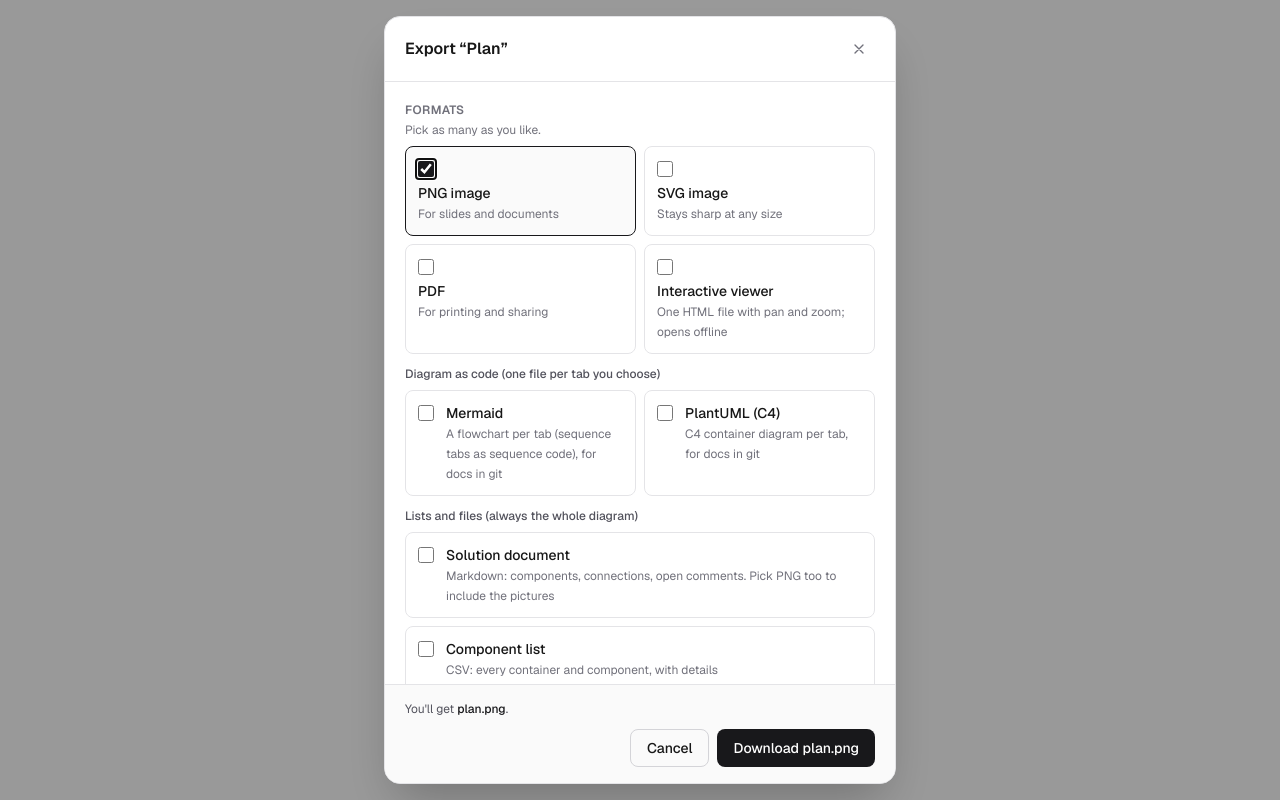
Test: ExportDialog › won't download with no format chosen
Click the checkbox labelled "PNG image For slides and documents" at (426, 169), box [418, 161, 434, 177]
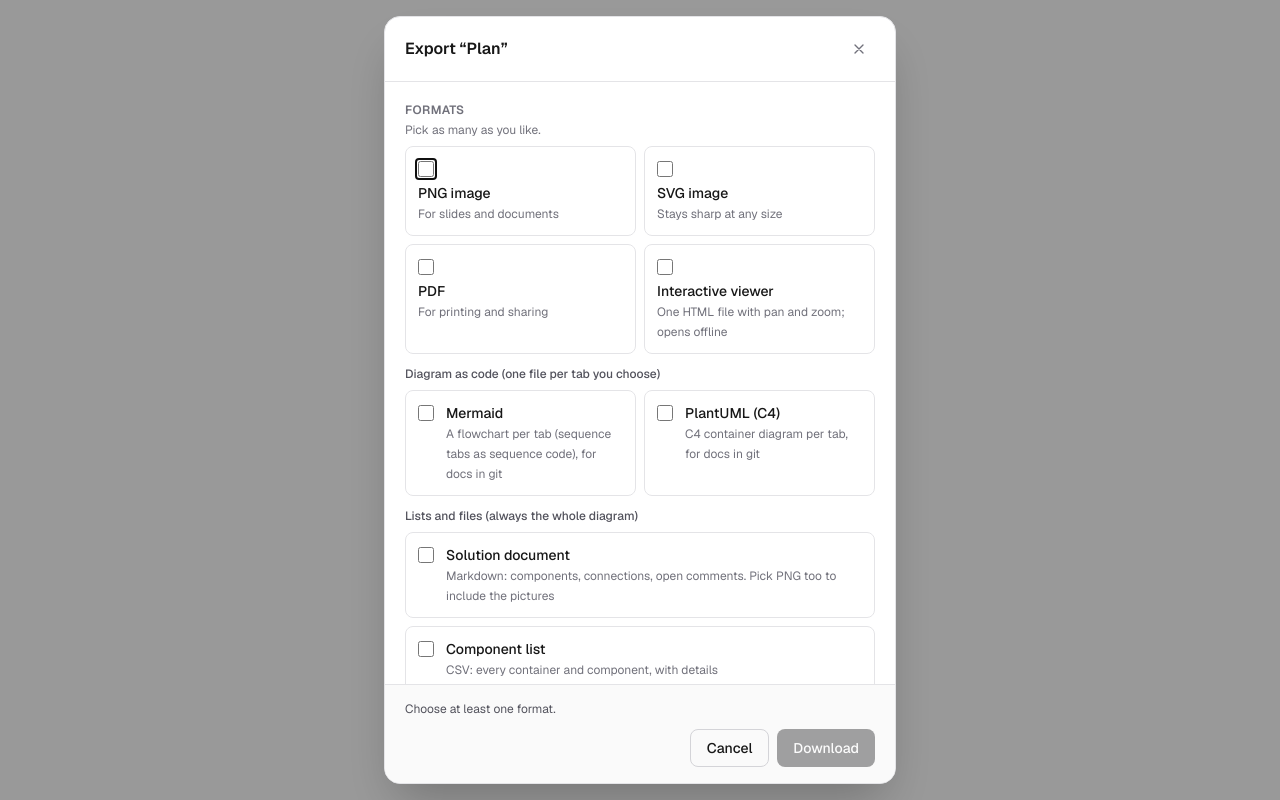
Now the text "Choose at least one format." is shown, box [405, 701, 556, 717]
Now the button "Download" is disabled, box [777, 729, 875, 767]
